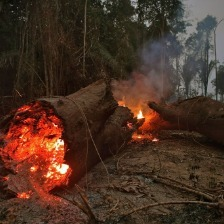incendio: (1, 101, 69, 190), (98, 87, 168, 151)
